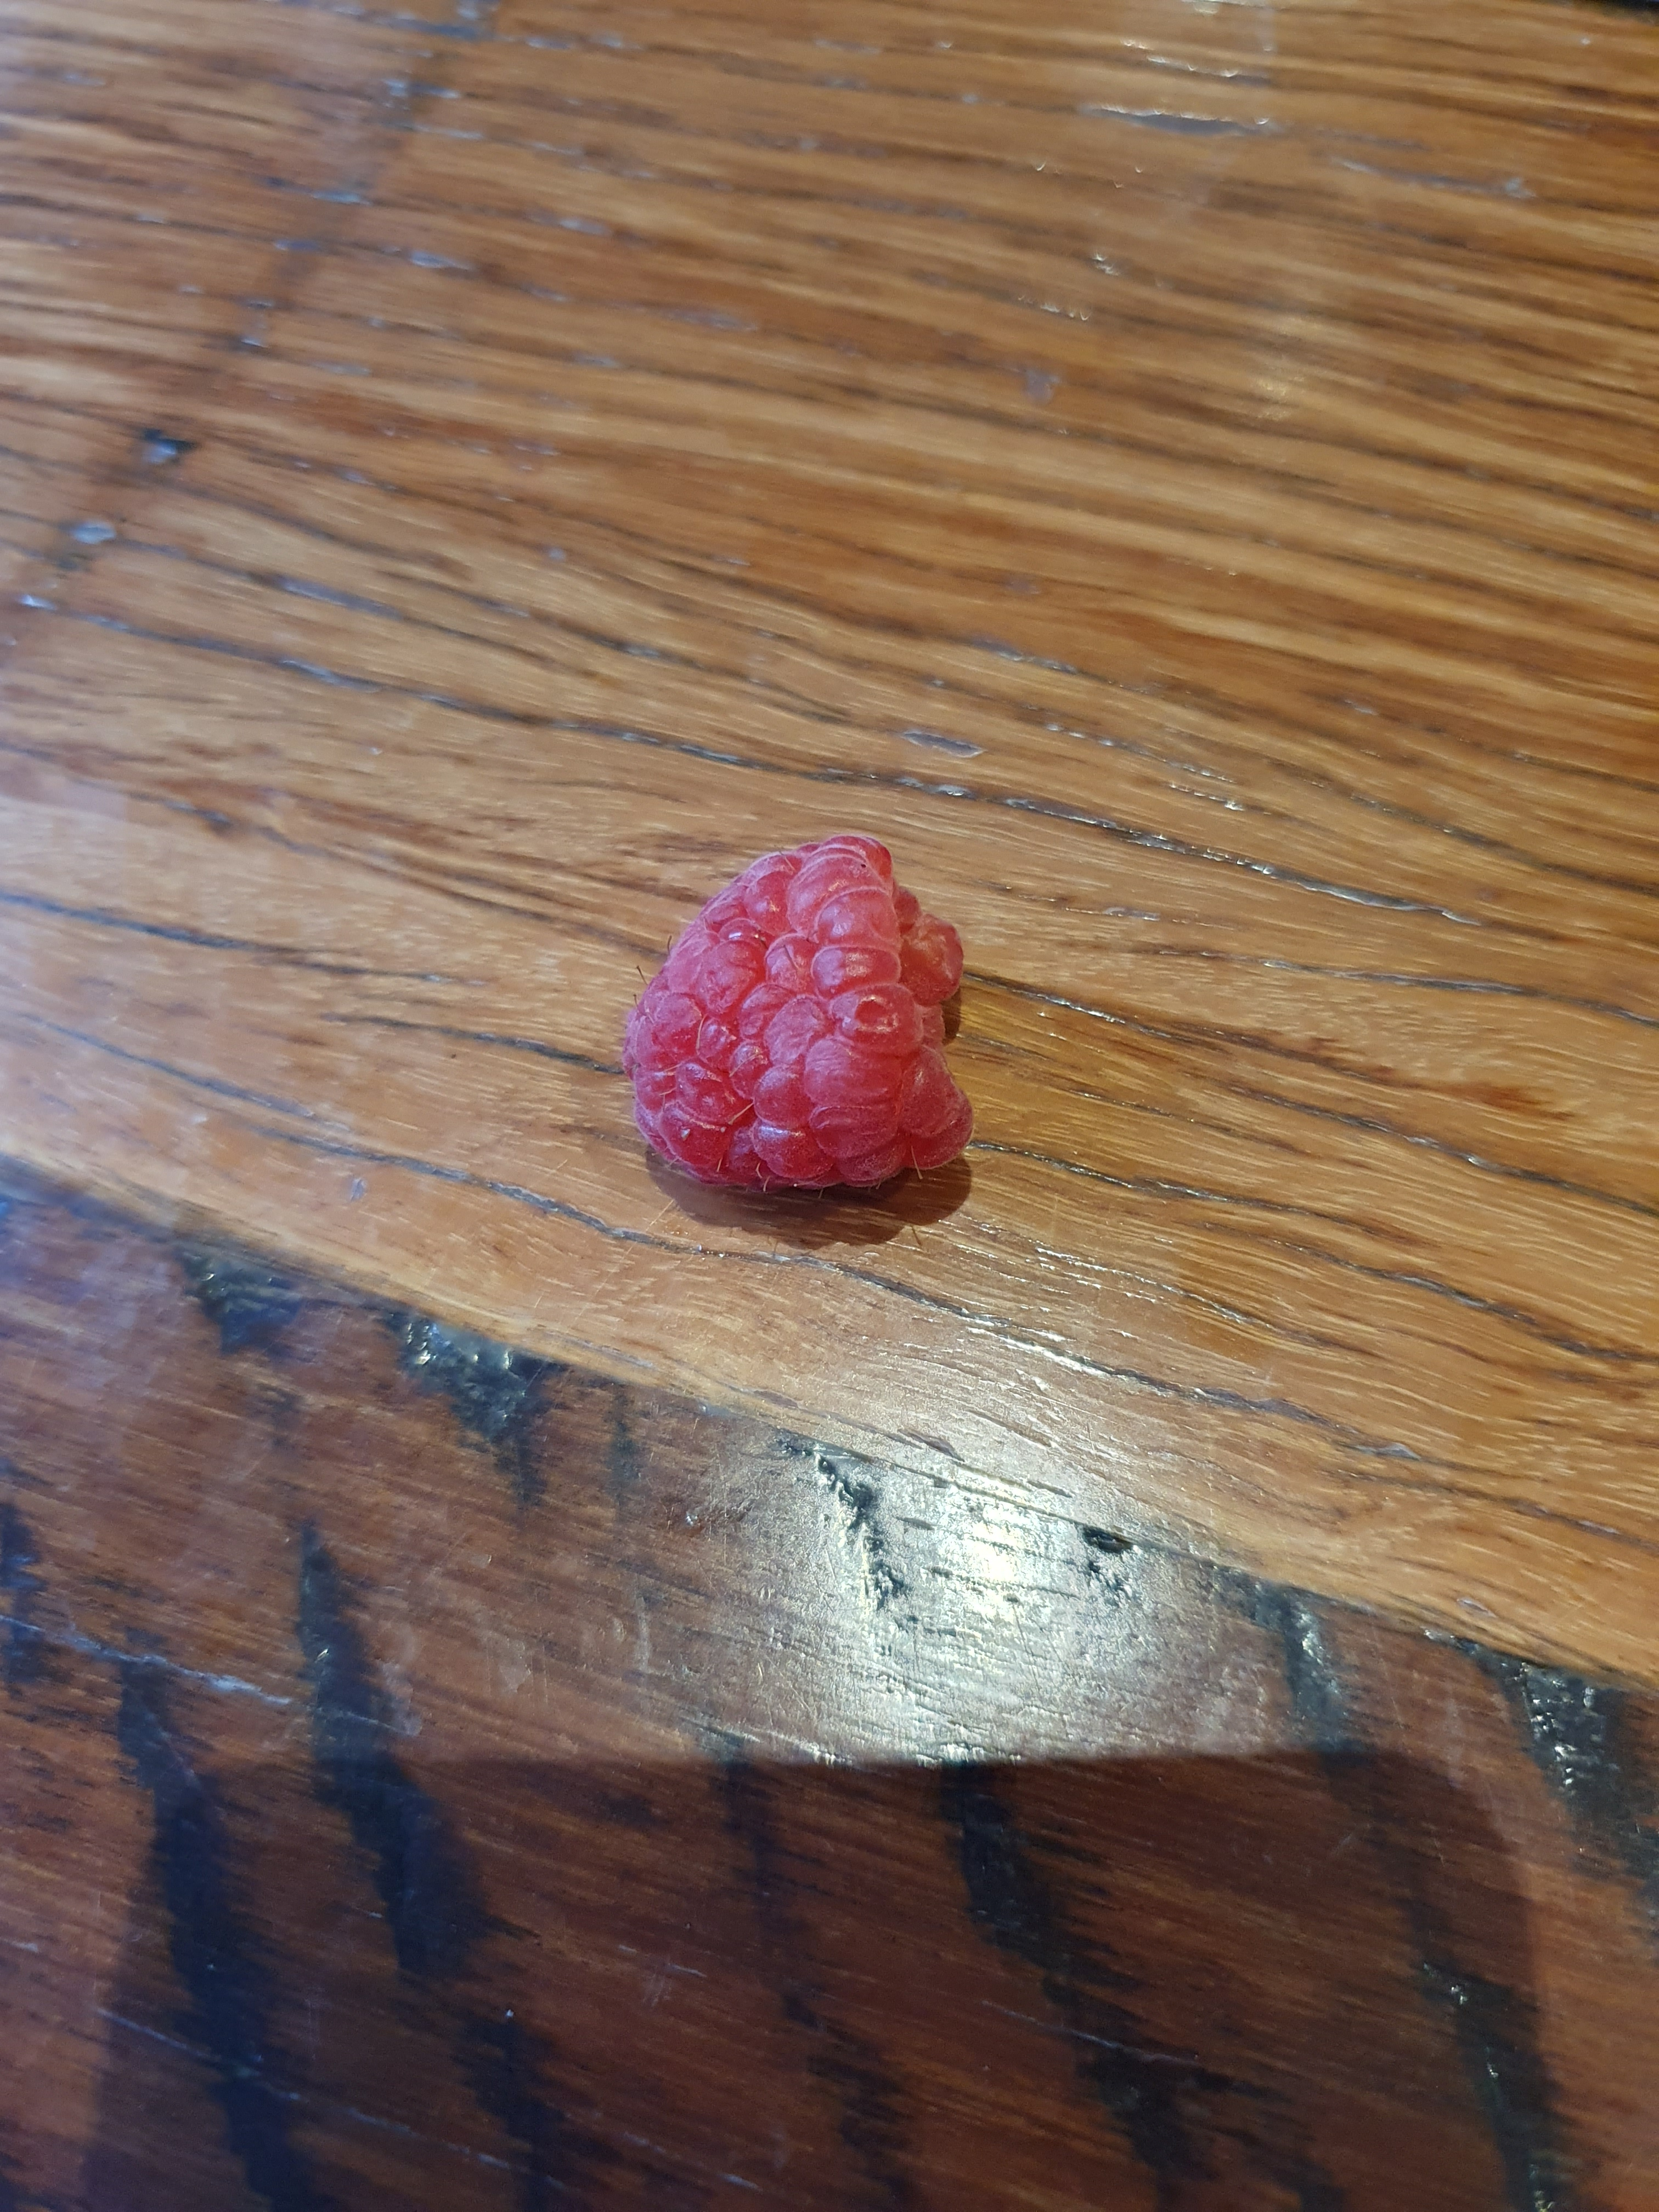raspberry: (586, 817, 988, 1237)
